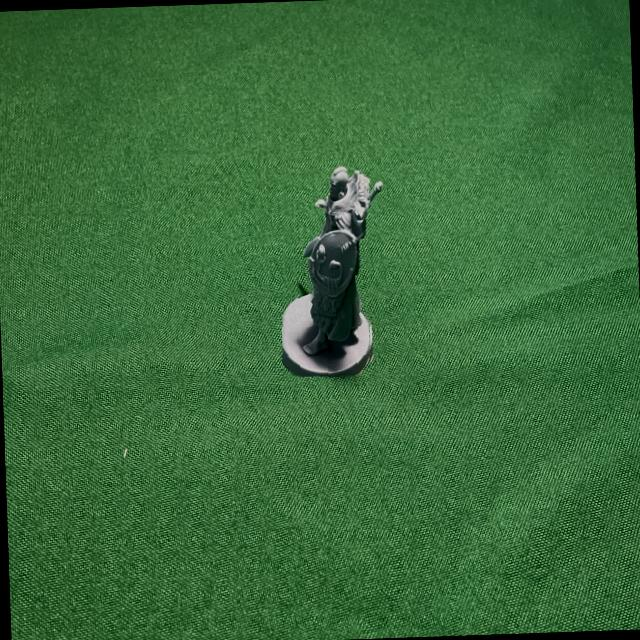isis_follower: (276, 159, 376, 378)
